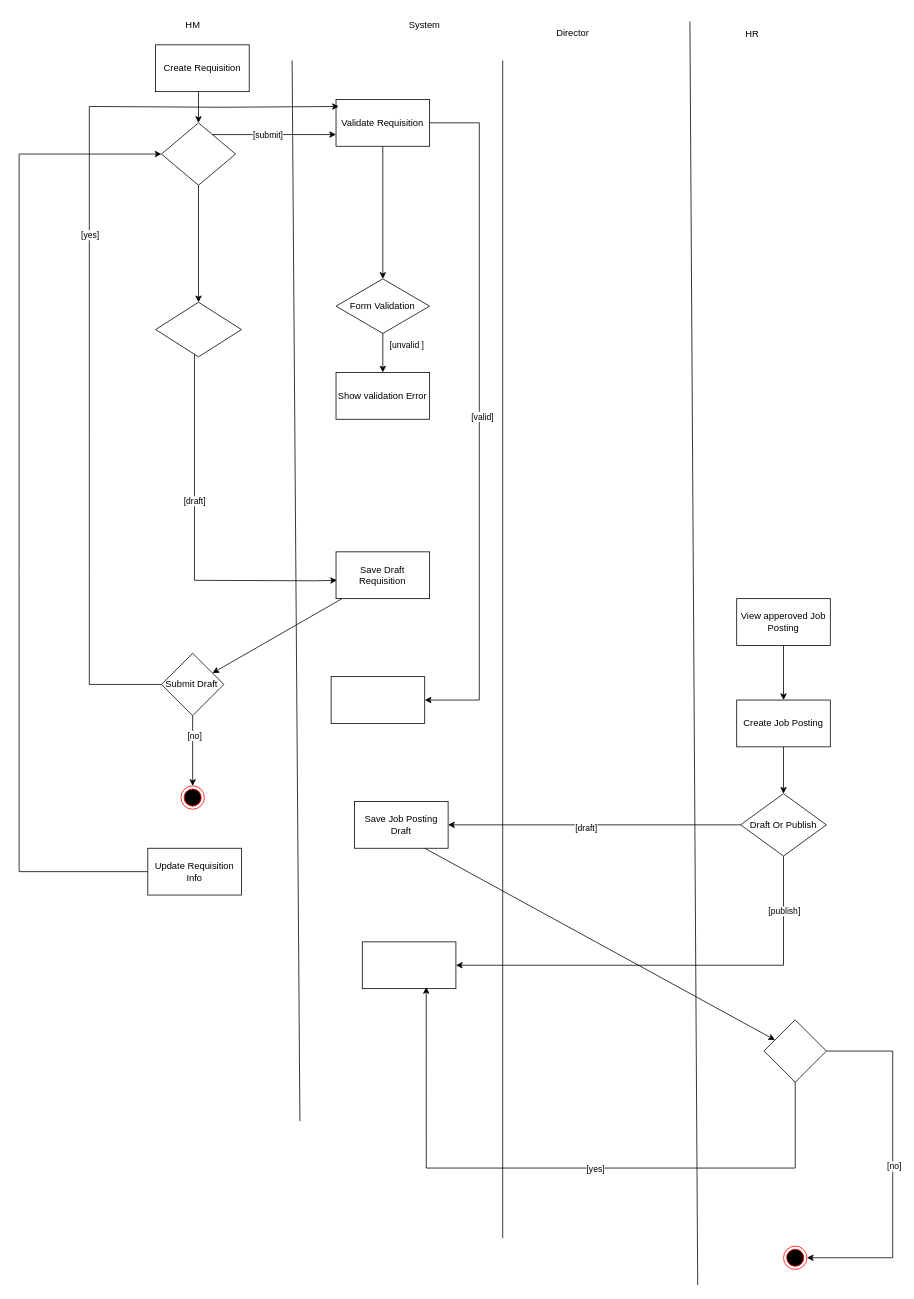
The diagram is 914 pixels wide and 1299 high, and some of its shapes have lost their labels. The centre of each missing label's shape, as x and y in pixels:
"Draft Publish" belongs at (x=794, y=1050).
"Is Submit" belongs at (x=198, y=329).
"Save Draft or Submit" belongs at (x=198, y=153).
"Save Pending Requisition & Notify Director" belongs at (x=377, y=699).
"Vailidate Publish" belongs at (x=409, y=965).
